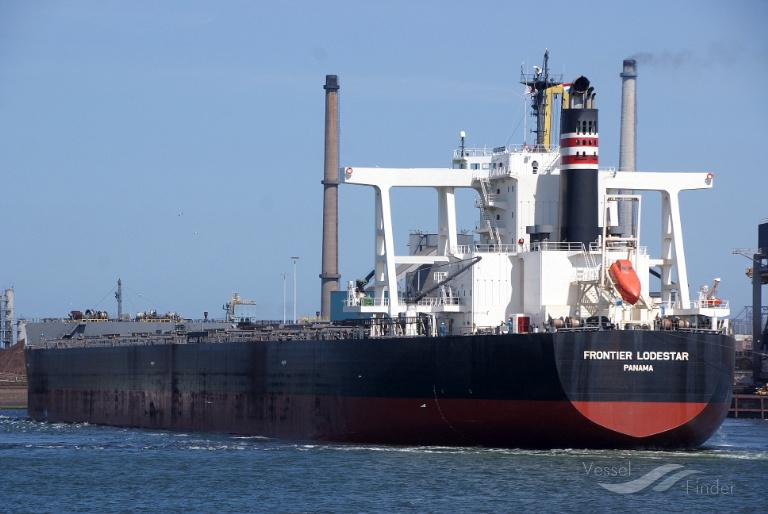OCR: (574, 346, 696, 380)
